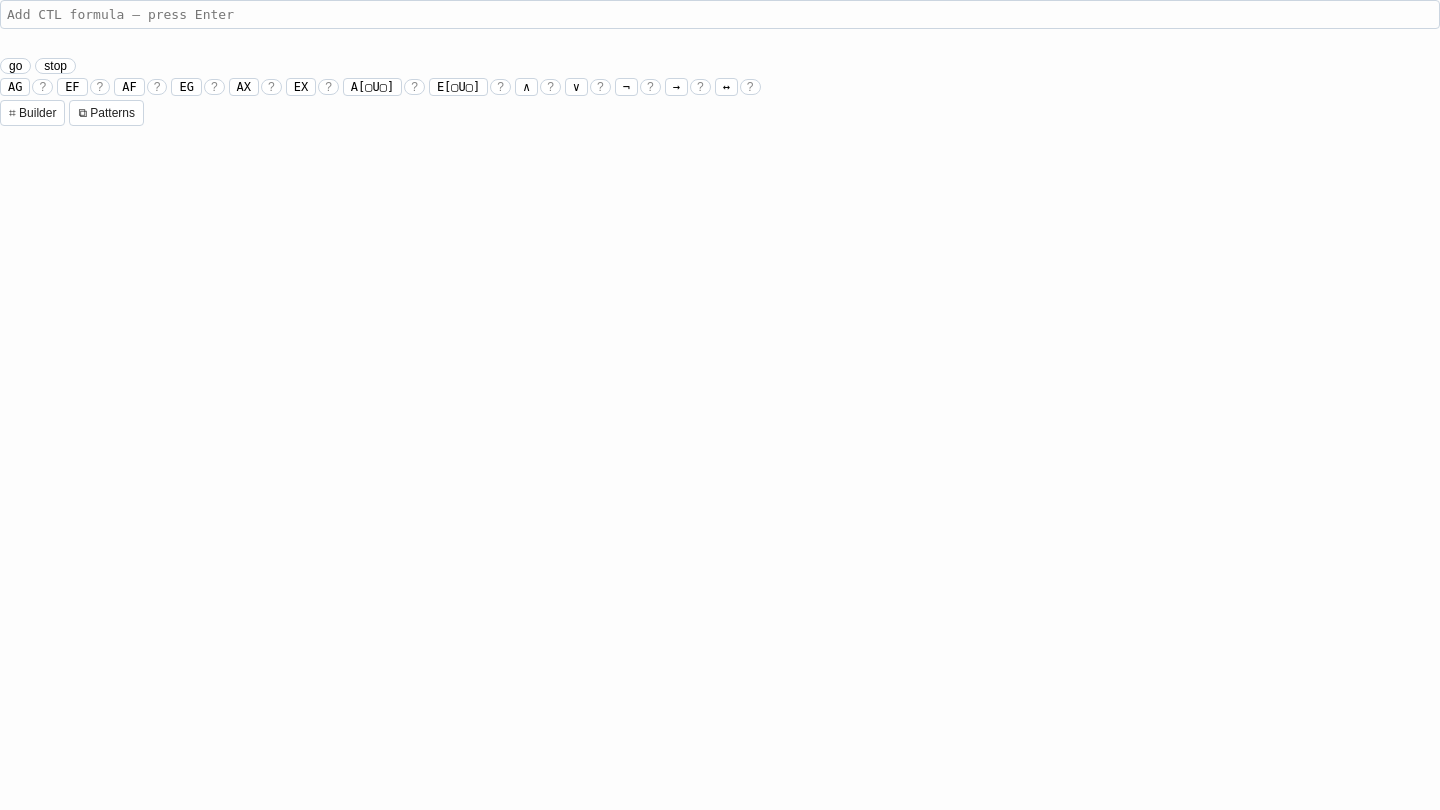
PatternPicker in the composer › Insert sets the draft (holes included), switches entry logic, and selects the first hole
Click the button "⧉ Patterns": (107, 113) [70, 100, 144, 126]
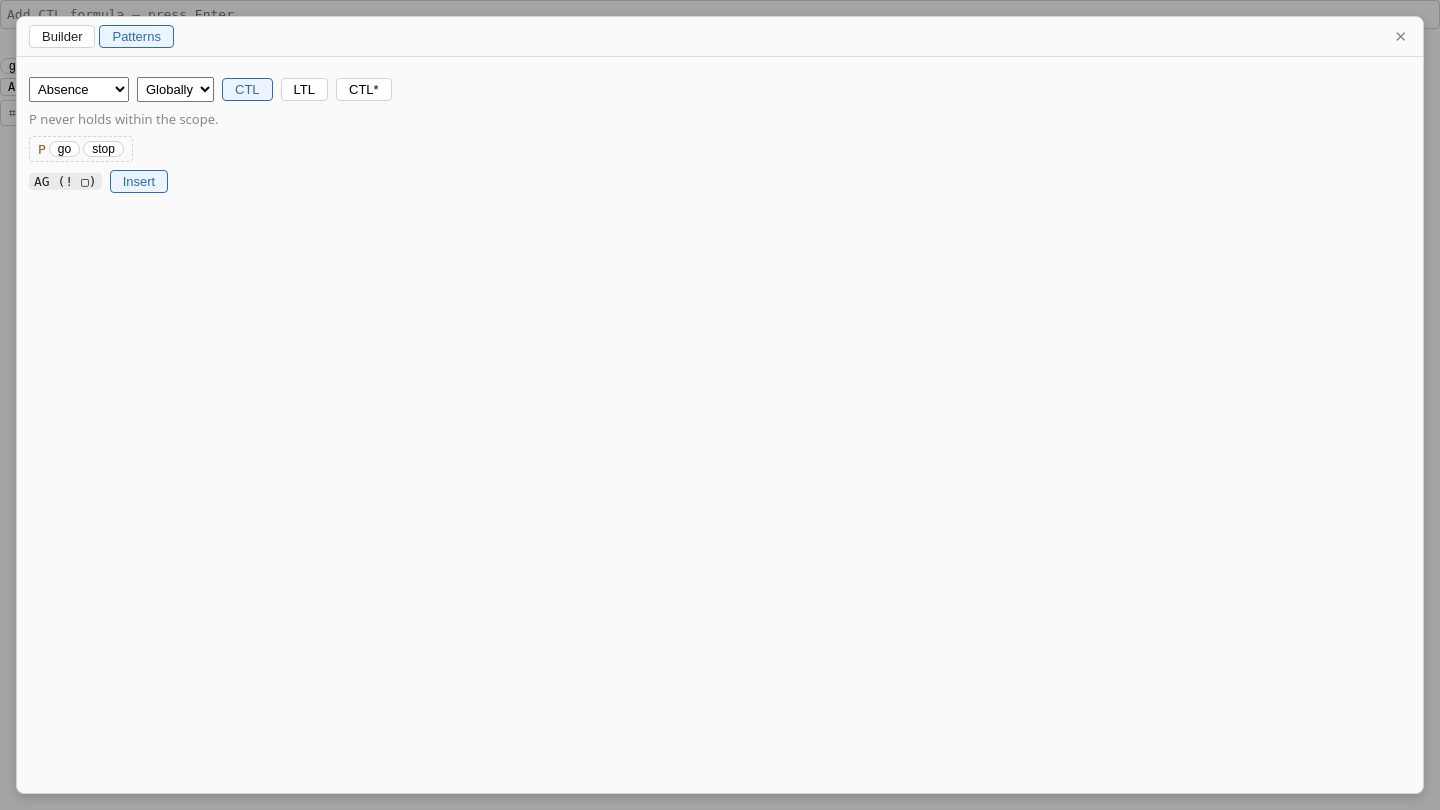
Select "Response" in the dropdown named "Pattern": (79, 90) [29, 77, 129, 102]
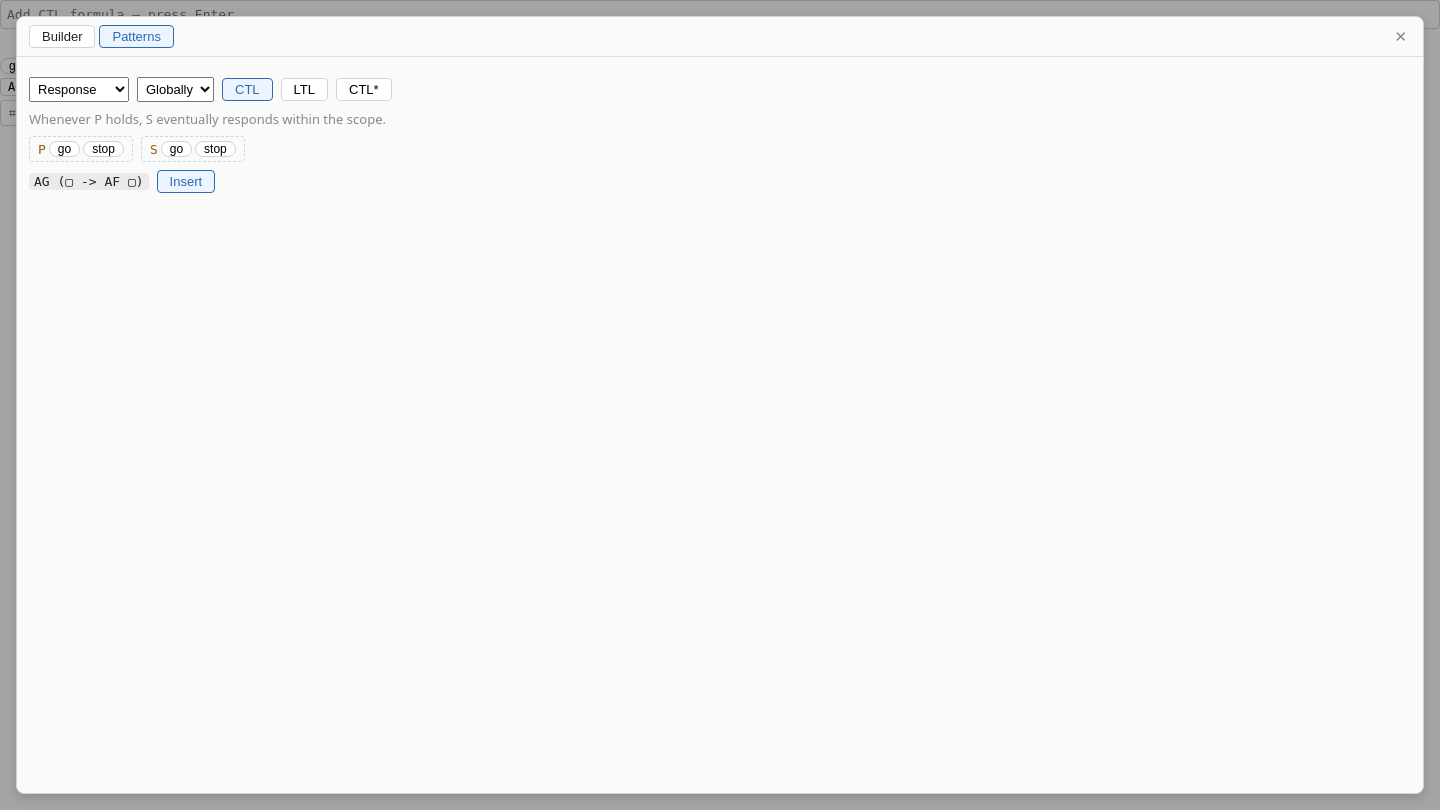
Click the button "LTL": (304, 90) [281, 78, 328, 101]
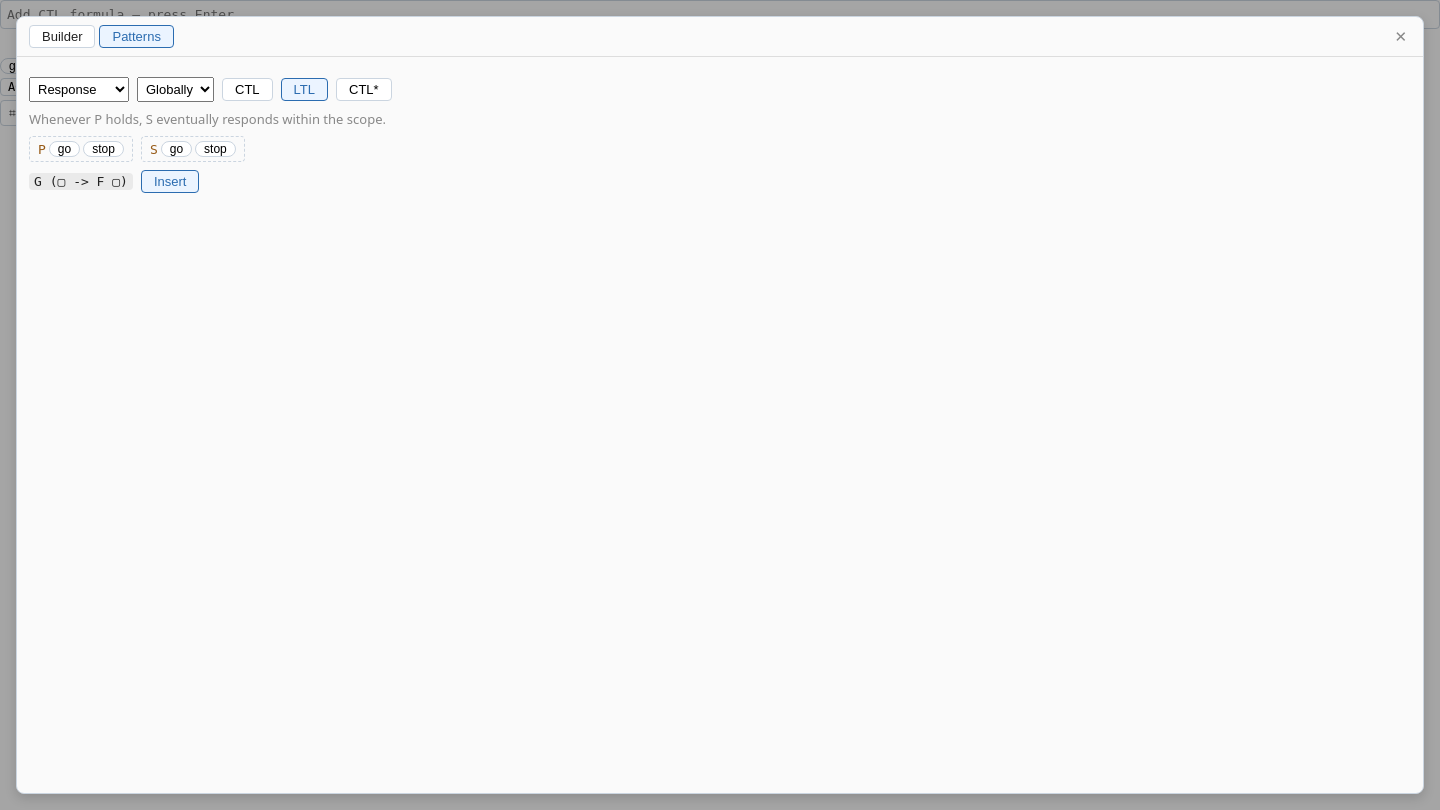
Click the 1st button "go": (64, 149) [49, 141, 80, 157]
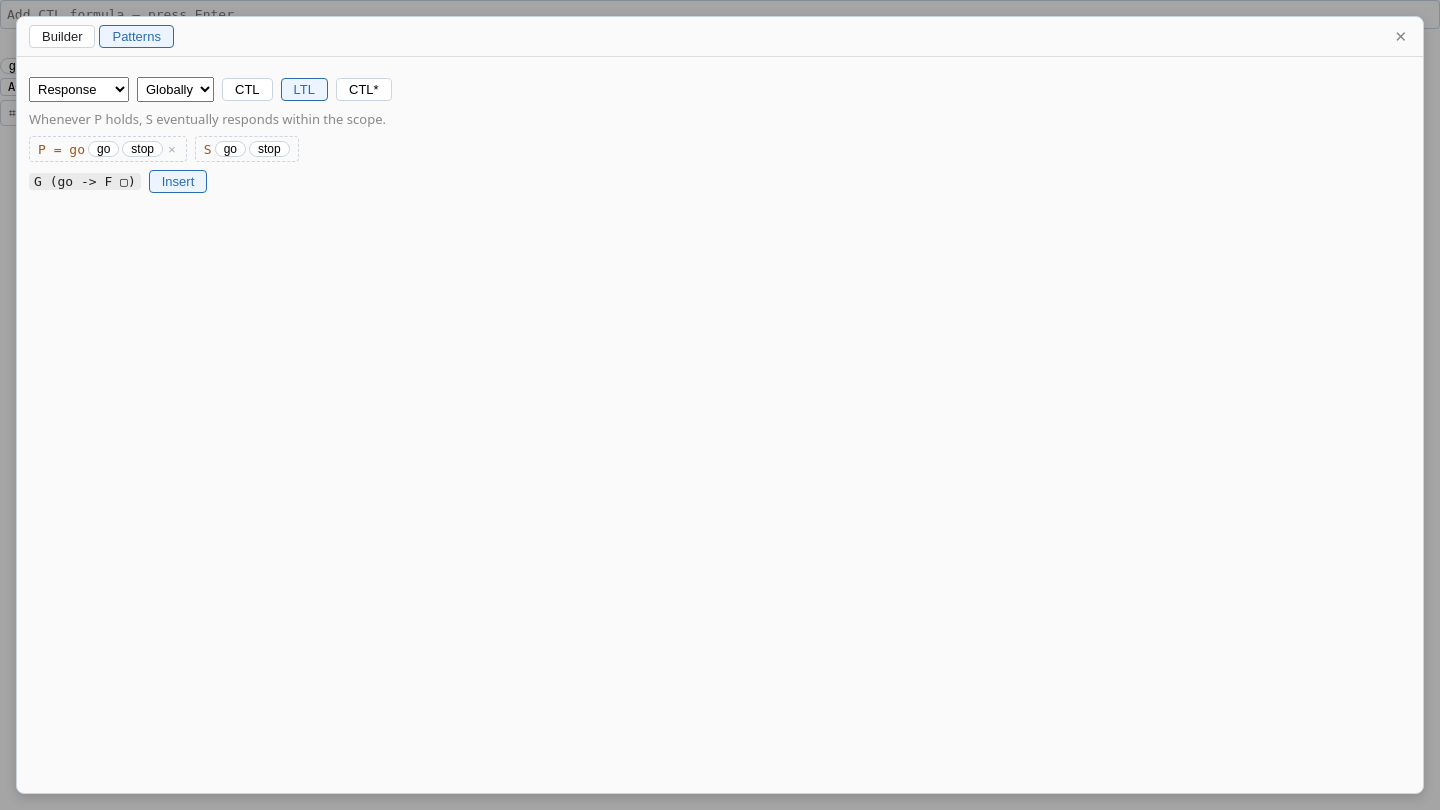
Click the button "Insert": (178, 182) [149, 170, 207, 193]
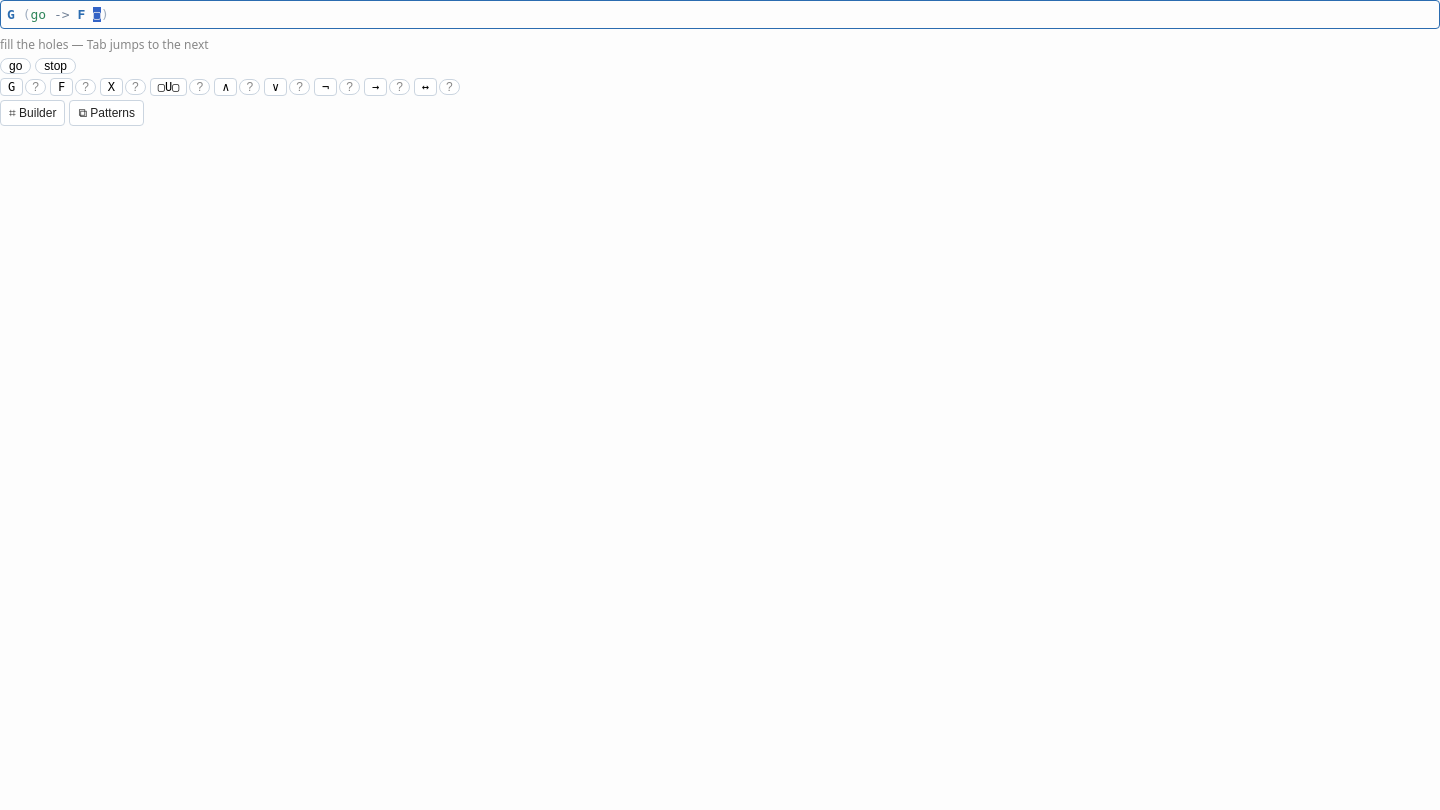
Check: the text box with placeholder "Add LTL formula — press Enter" holds "G (go -> F ▢)", box [0, 0, 1439, 29]
